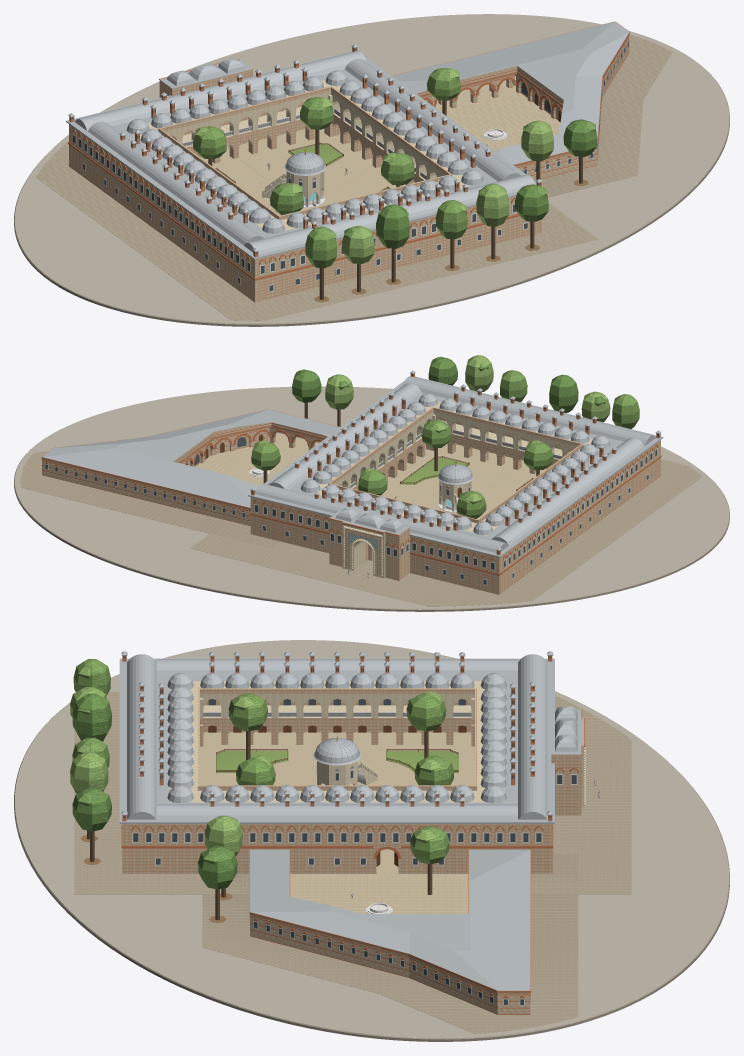
Rendered from koza-han_v16_sunum.glb.
3 renders of one model, top to bottom at view 1: azimuth 30°, elevation 25°; view 2: azimuth 150°, elevation 25°; view 3: azimuth 270°, elevation 25°, orthographic. The views are drawn at different scales.
Parts seen in each view (by area): view 1: Zemin_Kaide, Cevre_Doseme, Cati, Govde_Dis, Ic_Koza, Kubbe_Avlu, Avlu_Zemin, Avlu_Revak, Baca, Avlu_Agac, Cephe, Portal (+12 smaller); view 2: Zemin_Kaide, Cevre_Doseme, Ic_Koza, Cati, Govde_Dis, Kubbe_Avlu, Avlu_Zemin, Avlu_Revak, Portal, Baca, Avlu_Agac, Cephe (+12 smaller); view 3: Zemin_Kaide, Cevre_Doseme, Cati, Ic_Koza, Govde_Dis, Avlu_Zemin, Kubbe_Avlu, Avlu_Revak, Avlu_Agac, Baca, Cephe, Portal (+11 smaller).
Part boxes in pixels (<box>): Zemin_Kaide: <box>14,14,729,326</box>; Cevre_Doseme: <box>36,35,672,320</box>; Cati: <box>66,50,542,259</box>; Govde_Dis: <box>69,69,541,302</box>; Ic_Koza: <box>392,21,629,180</box>; Kubbe_Avlu: <box>126,70,483,233</box>; Avlu_Zemin: <box>201,76,560,215</box>; Avlu_Revak: <box>125,79,484,234</box>; Baca: <box>68,44,542,257</box>; Avlu_Agac: <box>193,67,460,215</box>; Cephe: <box>72,92,528,291</box>; Portal: <box>159,58,252,97</box>; Zemin_Kaide: <box>14,386,729,611</box>; Cevre_Doseme: <box>20,451,701,606</box>; Ic_Koza: <box>41,409,340,525</box>; Cati: <box>248,376,663,557</box>; Govde_Dis: <box>250,392,660,594</box>; Kubbe_Avlu: <box>300,393,610,535</box>; Avlu_Zemin: <box>195,432,545,519</box>; Avlu_Revak: <box>300,401,611,535</box>; Portal: <box>328,508,410,580</box>; Baca: <box>250,370,661,555</box>; Avlu_Agac: <box>251,419,553,518</box>; Cephe: <box>253,444,657,585</box>; Zemin_Kaide: <box>14,640,729,1041</box>; Cevre_Doseme: <box>74,692,631,1033</box>; Cati: <box>119,654,554,823</box>; Ic_Koza: <box>249,849,530,1014</box>; Govde_Dis: <box>122,675,552,873</box>; Avlu_Zemin: <box>200,732,474,913</box>; Kubbe_Avlu: <box>167,672,507,803</box>; Avlu_Revak: <box>170,681,504,802</box>; Avlu_Agac: <box>228,691,454,894</box>; Baca: <box>121,651,553,821</box>; Cephe: <box>121,760,581,865</box>; Portal: <box>551,706,585,815</box>.
Bounding box in the file's own units: 158 × 16.92 × 120.
42 materials, 19 textured.
